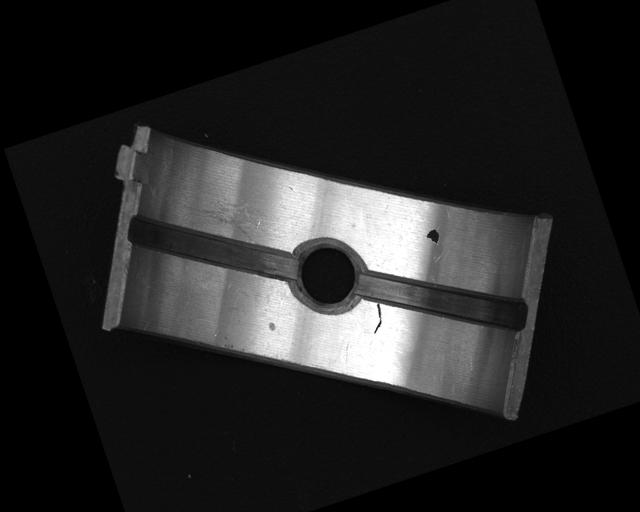blot: (424, 228, 442, 247)
bruise: (266, 319, 277, 332)
gap: (124, 173, 301, 324), (359, 230, 529, 371)
hole: (283, 232, 373, 321)
nick: (364, 301, 388, 334)
scratch: (180, 183, 265, 260)
